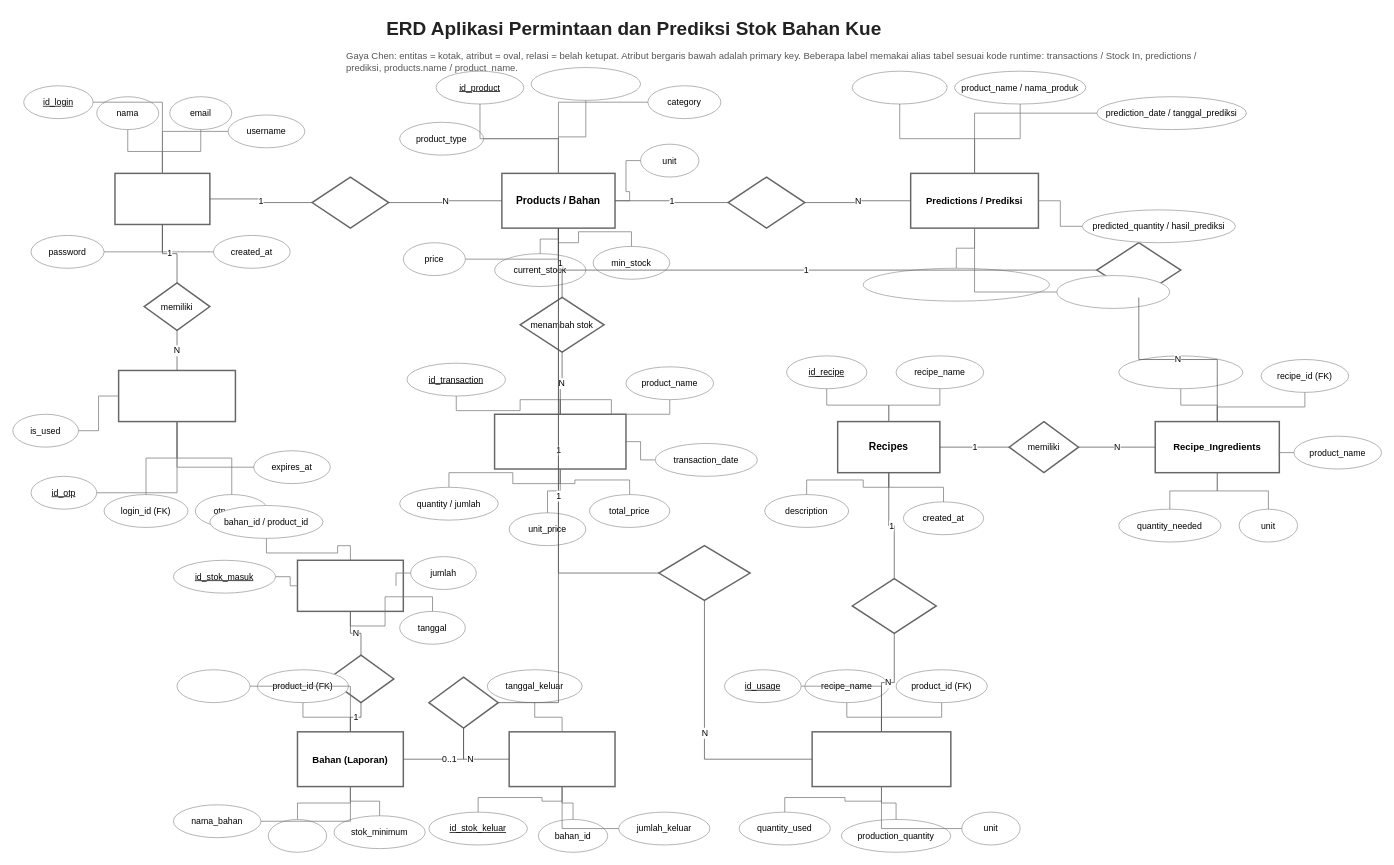
This 1394x865 diagram has some shape labels left out. Each missing label, with the box of its shape:
accuracy_r2, error_mae: (1056, 275, 1170, 308)
dicatat: (327, 654, 394, 703)
diprediksi: (727, 176, 805, 228)
estimated_needs / estimasi_kebutuhan_bahan: (862, 268, 1049, 301)
id_bahan: (176, 669, 250, 703)
id_prediction: (852, 70, 947, 104)
id_recipe_ingredient: (1118, 355, 1243, 389)
Login: (114, 172, 210, 225)
mengacu bahan: (1096, 242, 1181, 298)
mengelola: (311, 176, 389, 228)
mengurangi stok: (658, 545, 750, 601)
name / product_name: (530, 67, 641, 100)
Password_Reset_OTP: (118, 369, 236, 422)
produksi memakai: (851, 577, 937, 634)
sinkron: (428, 676, 499, 729)
Stock_Usage_History: (811, 731, 951, 787)
stok: (268, 819, 327, 852)
Stok_Keluar: (508, 731, 615, 787)
Stok_Masuk: (296, 559, 404, 612)
Transactions / Stock In: (493, 413, 626, 469)
